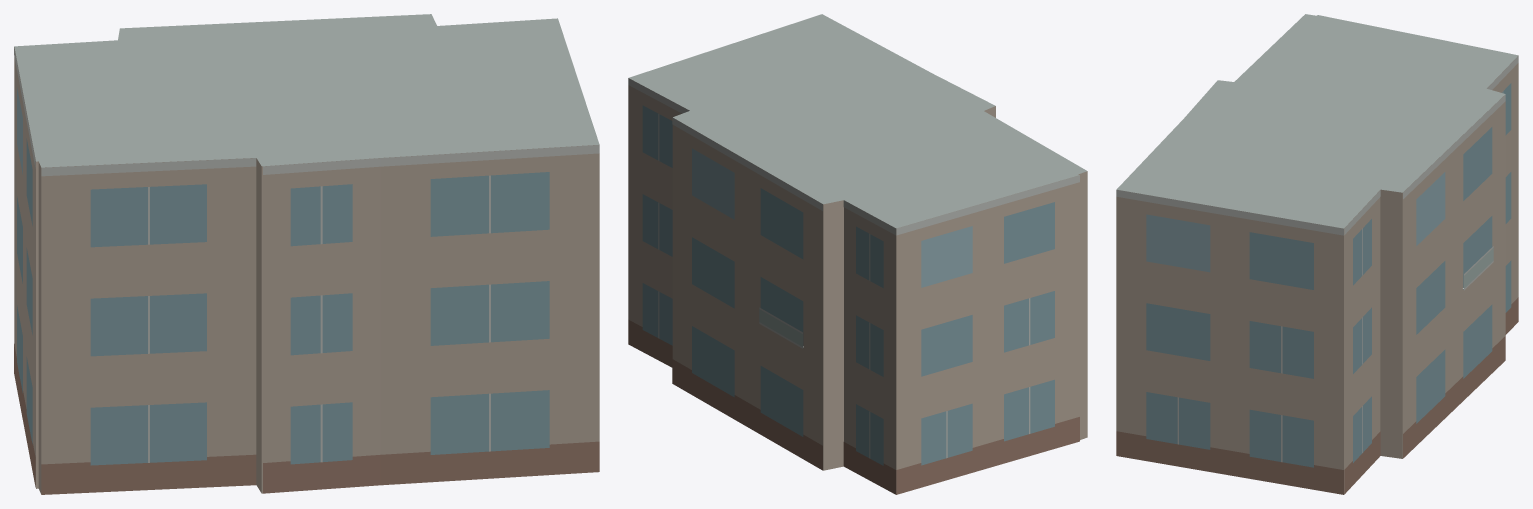
The model's file is survey-upis-32537536.glb.
3 renders of one model, left to right at view 1: azimuth 30°, elevation 25°; view 2: azimuth 150°, elevation 25°; view 3: azimuth 270°, elevation 25°, orthographic. The views are drawn at different scales.
Parts seen in each view (by area): view 1: survey-upis-32537536.tmp; view 2: survey-upis-32537536.tmp; view 3: survey-upis-32537536.tmp.
Boxes of the visible parts, box(x1,y1,x2,y2) form: survey-upis-32537536.tmp: box(14, 14, 599, 494); survey-upis-32537536.tmp: box(628, 14, 1087, 494); survey-upis-32537536.tmp: box(1116, 14, 1518, 494).
Size of the model in its own units: 15.82 by 9.15 by 12.54.
